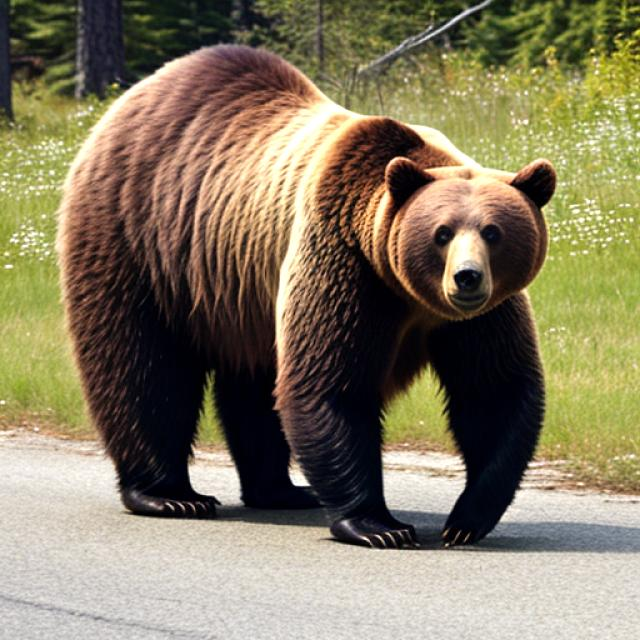bear: (34, 41, 564, 532)
